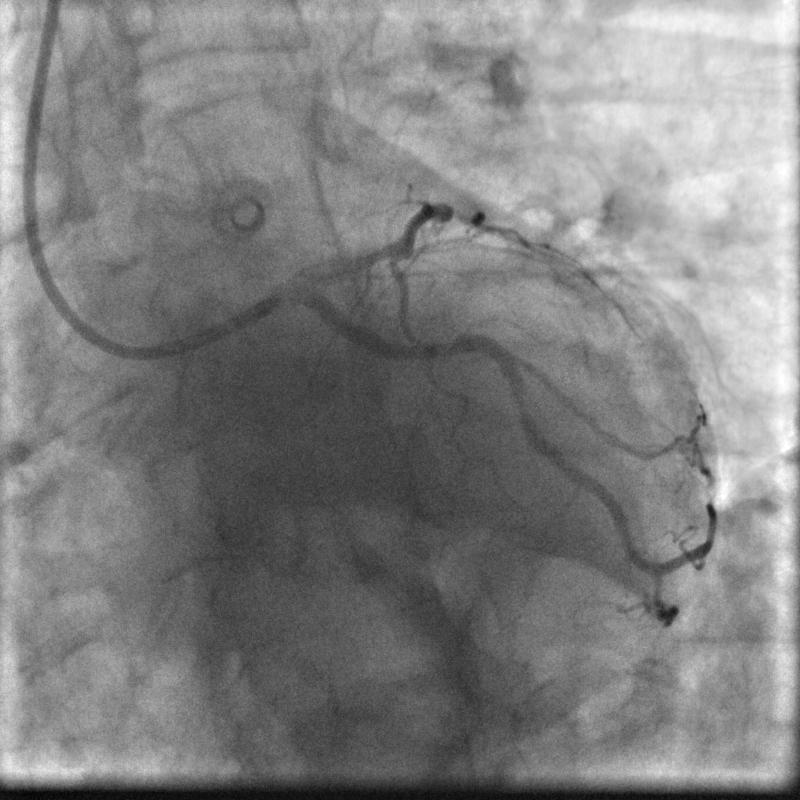Stenosis: (510, 391, 532, 425)
